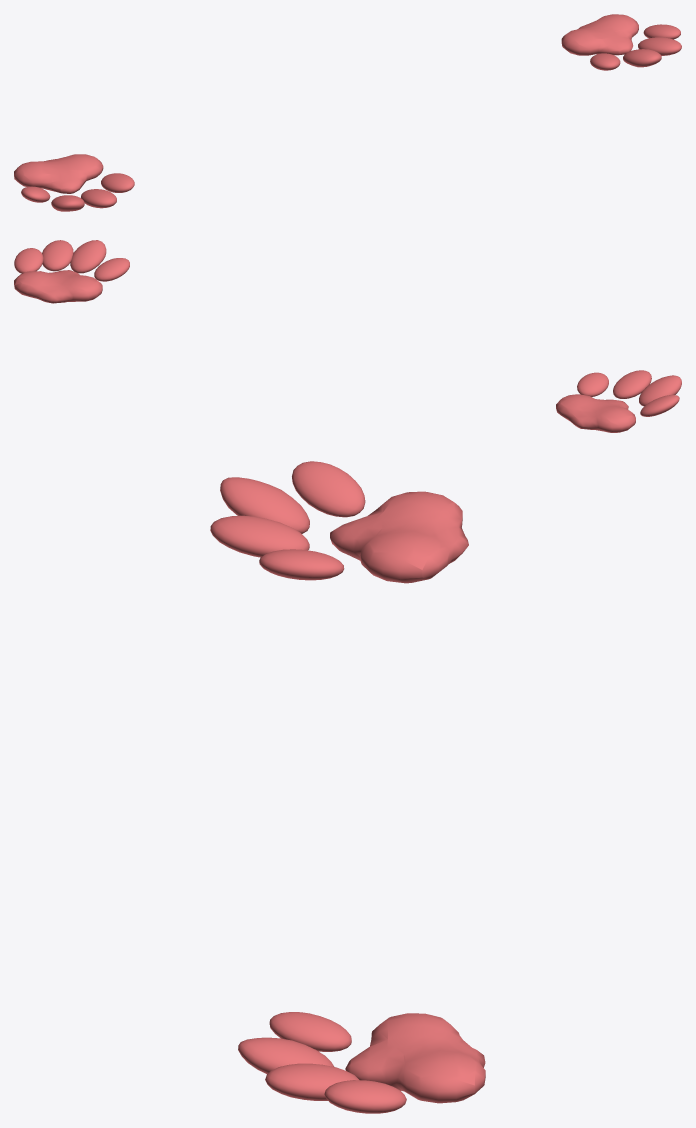
File: cat front beans.fbx
3 views of the same model, one above another, from view 1: azimuth 30°, elevation 25°; view 2: azimuth 150°, elevation 25°; view 3: azimuth 270°, elevation 25° (orthographic). The views are drawn at different scales.
Parts seen in each view (by area): view 1: tim.006, tim.005; view 2: tim.005, tim.006; view 3: tim.006, tim.005.
Part boxes in pixels (x1,y1,x2,y2): tim.006: (14, 154, 134, 211); tim.005: (561, 14, 681, 70); tim.005: (14, 240, 129, 303); tim.006: (556, 370, 681, 432); tim.006: (210, 461, 468, 583); tim.005: (238, 1012, 485, 1113).
Bounding box in the file's own units: 9.28 × 0.3226 × 1.7.
